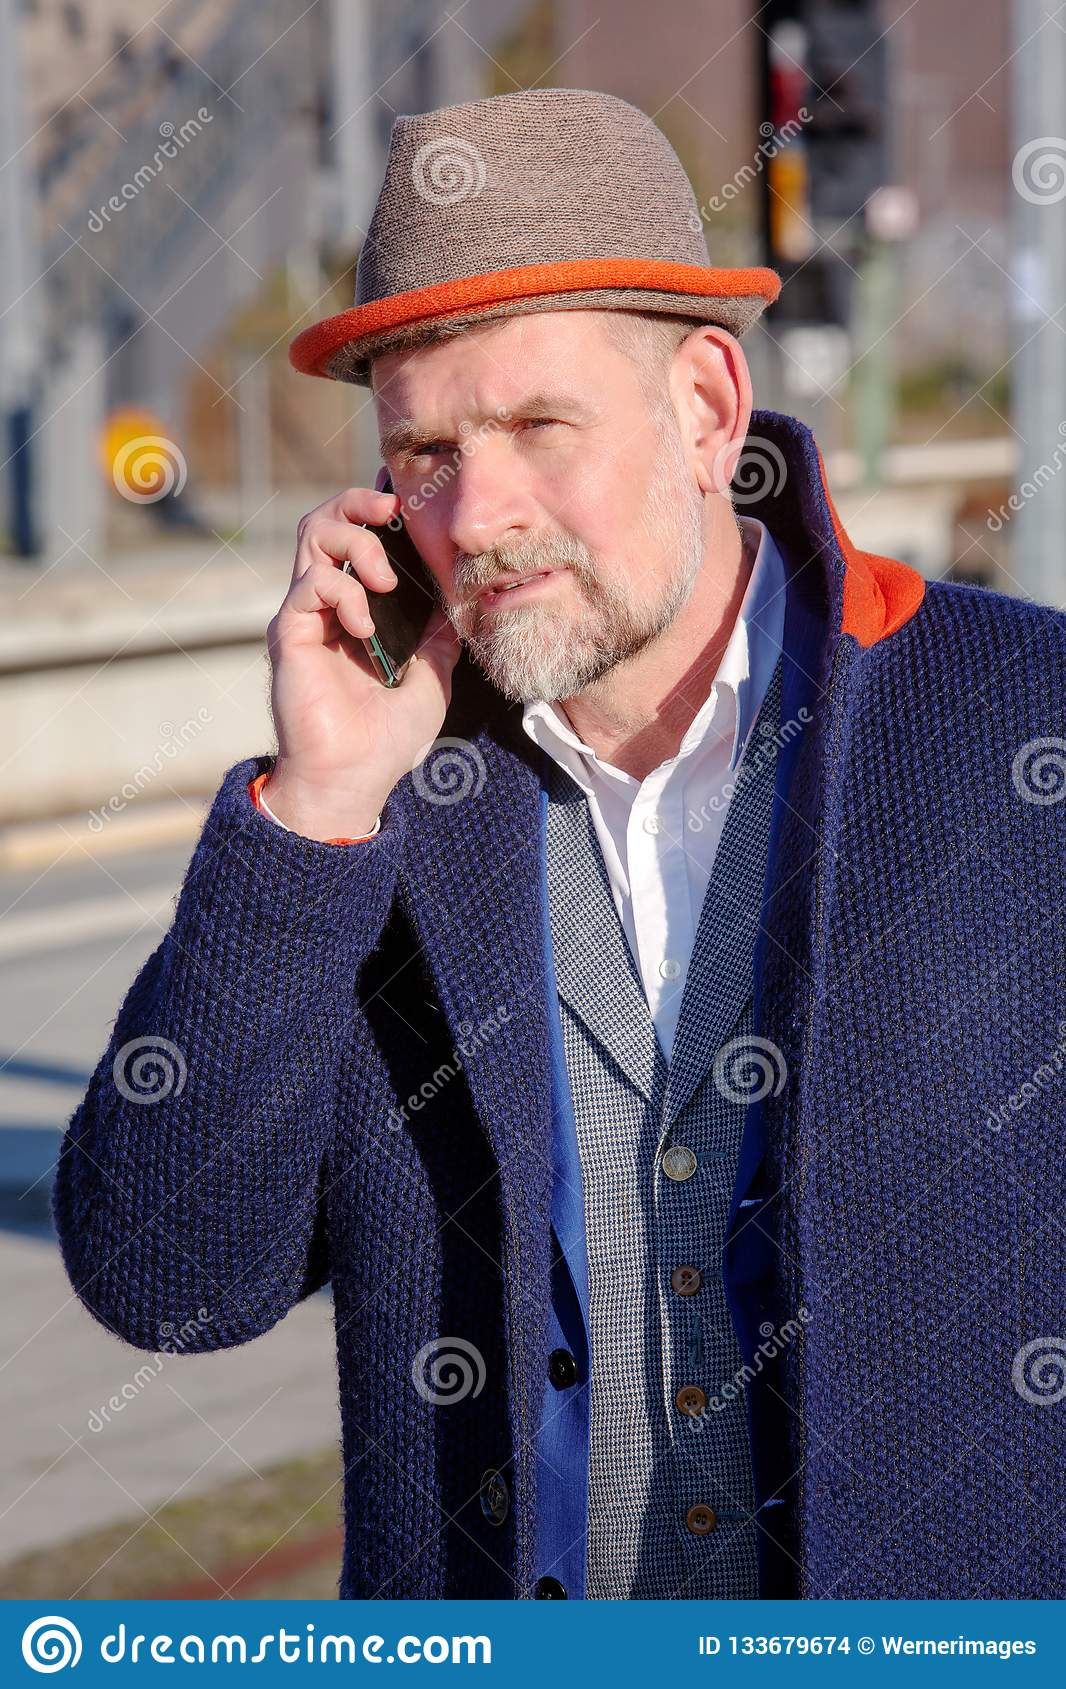phone: (344, 474, 438, 690)
talk: (269, 387, 615, 761)
